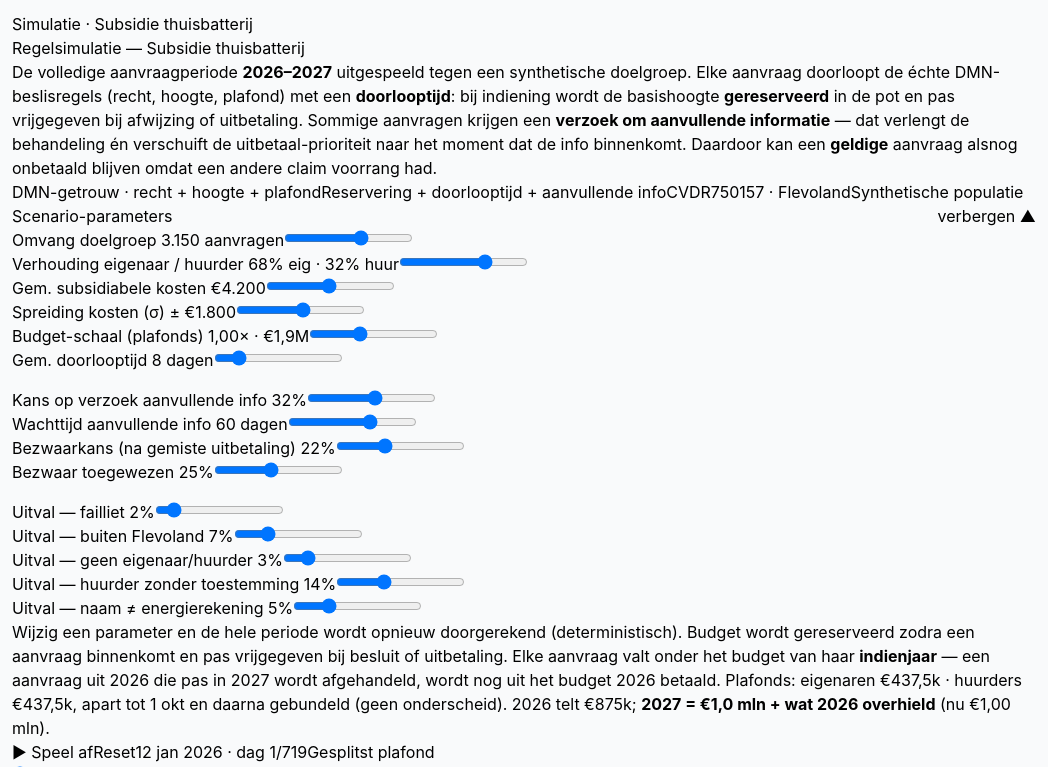
Scenario: RegelSimulatie playback › plays and pauses from the same control
Click the button "▶ Speel af": [53, 752] box [12,740,93,764]
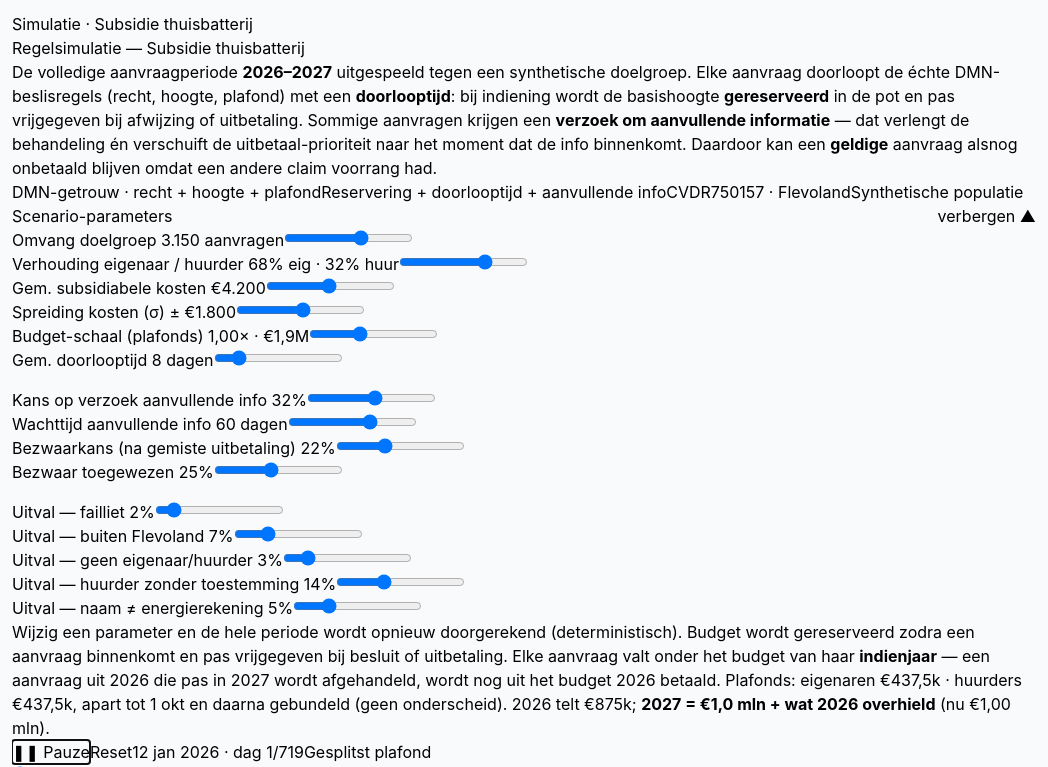
Check: the button "❚❚ Pauze" is shown
Click the button "❚❚ Pauze": [51, 752] box [12,740,90,764]
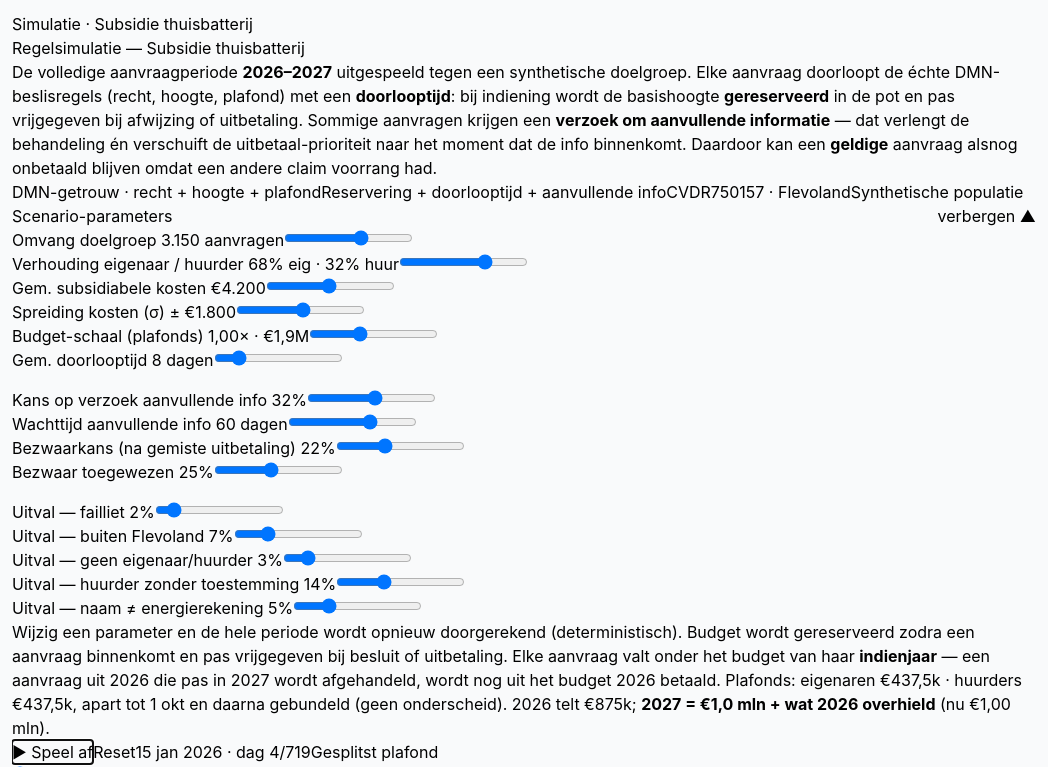
Check: the button "▶ Speel af" is shown, box [12,740,93,764]
